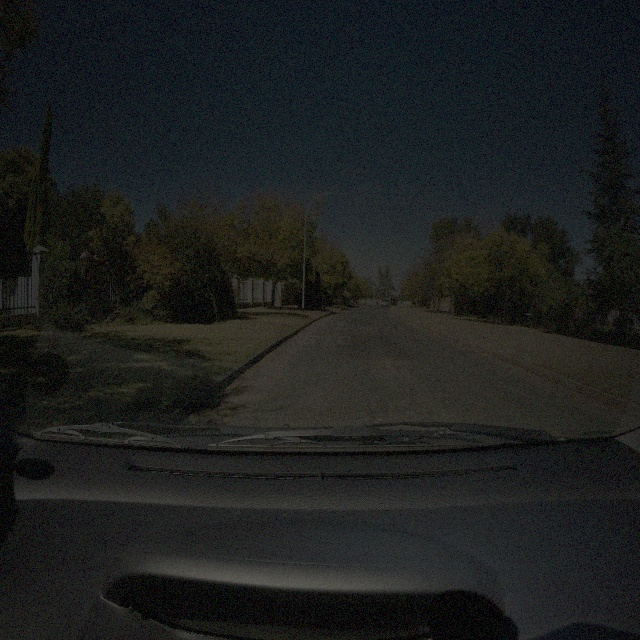pothole: (382, 360, 400, 372)
